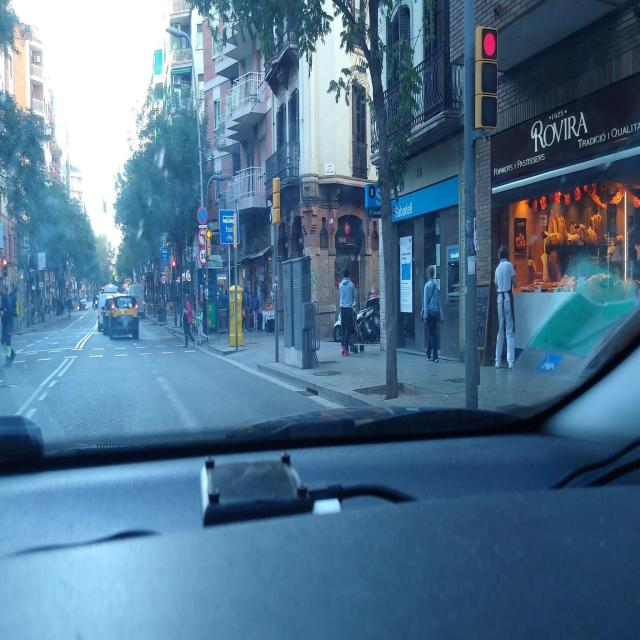forb_stopping: (197, 206, 208, 225)
